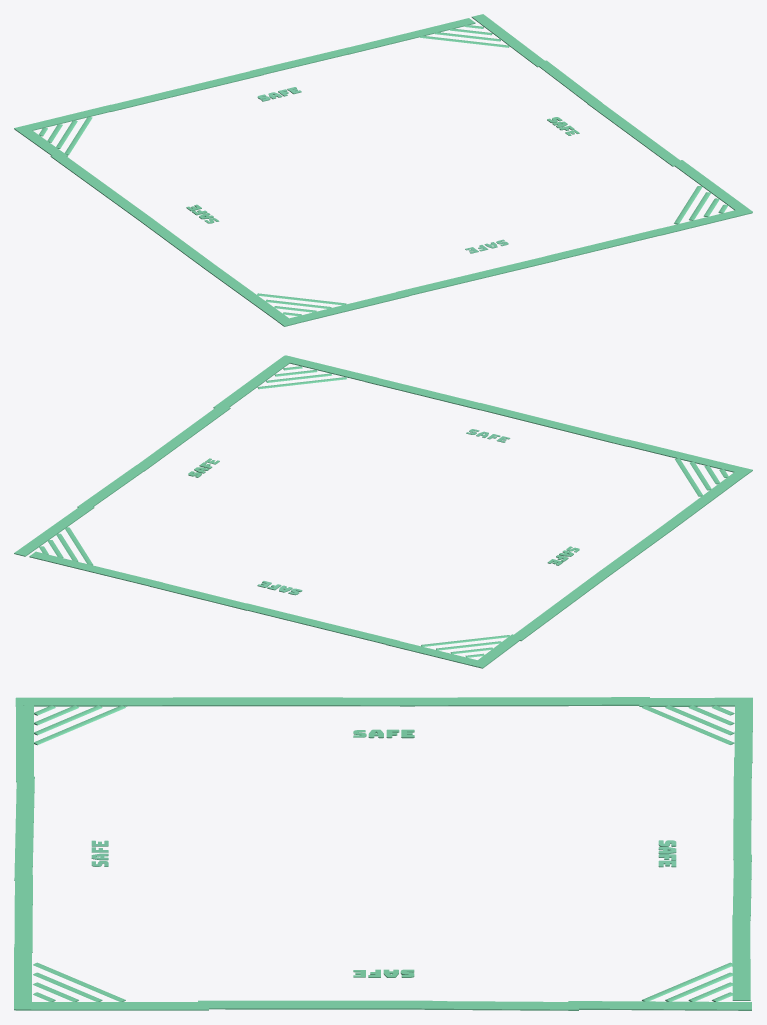
Rendered from SM_Zone_Safe_Shelf.fbx.
The picture shows the model from 3 angles, top to bottom: view 1: azimuth 30°, elevation 25°; view 2: azimuth 150°, elevation 25°; view 3: azimuth 270°, elevation 25°; orthographic projection. The views are drawn at different scales.
Parts seen in each view (by area): view 1: SM_Zone_Safe_Shelf; view 2: SM_Zone_Safe_Shelf; view 3: SM_Zone_Safe_Shelf.
Part boxes in pixels (x1,y1,x2,y2): SM_Zone_Safe_Shelf: [14, 14, 752, 326]; SM_Zone_Safe_Shelf: [14, 355, 752, 668]; SM_Zone_Safe_Shelf: [14, 697, 752, 1010].
Bounding box in the file's own units: 412 × 0.8788 × 412.
